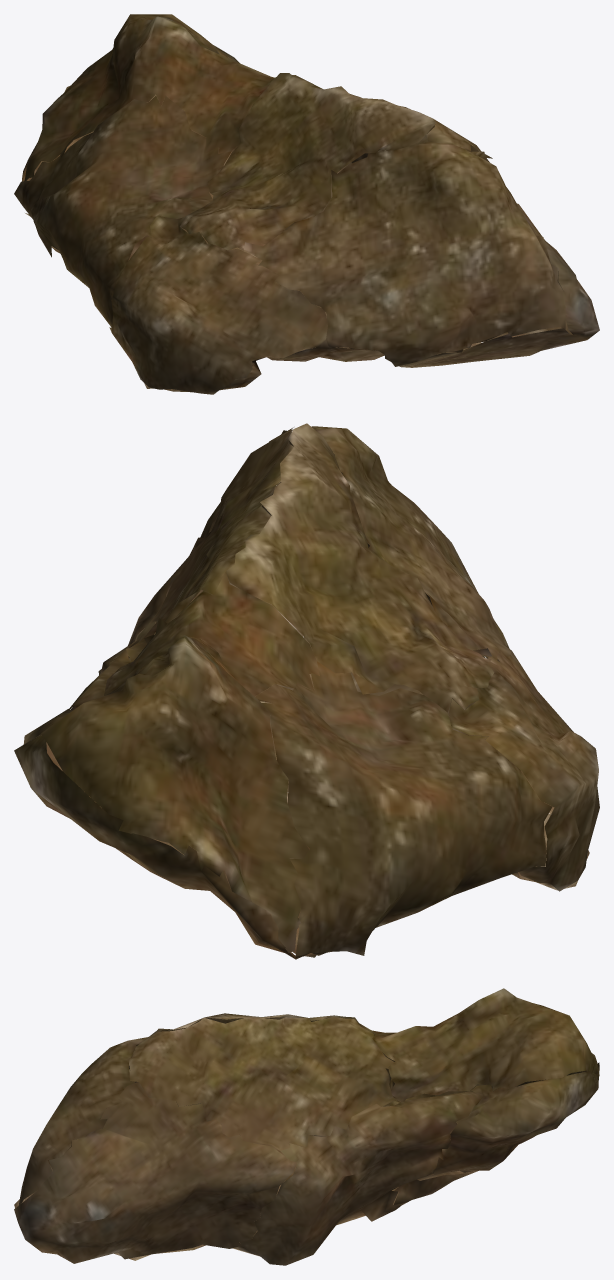
File: rock_0.glb
3 renders of one model, top to bottom at view 1: azimuth 30°, elevation 25°; view 2: azimuth 150°, elevation 25°; view 3: azimuth 270°, elevation 25°, orthographic. The views are drawn at different scales.
Parts seen in each view (by area): view 1: rock_moss_set_01_rock01; view 2: rock_moss_set_01_rock01; view 3: rock_moss_set_01_rock01.
Part boxes in pixels (left/top/right/bottom): rock_moss_set_01_rock01: left=14, top=14, right=599, bottom=394; rock_moss_set_01_rock01: left=14, top=423, right=599, bottom=959; rock_moss_set_01_rock01: left=14, top=988, right=599, bottom=1265.
Size of the model in its own units: 2.24 by 1.48 by 3.38.
Materials: 1 (1 with a texture image).
